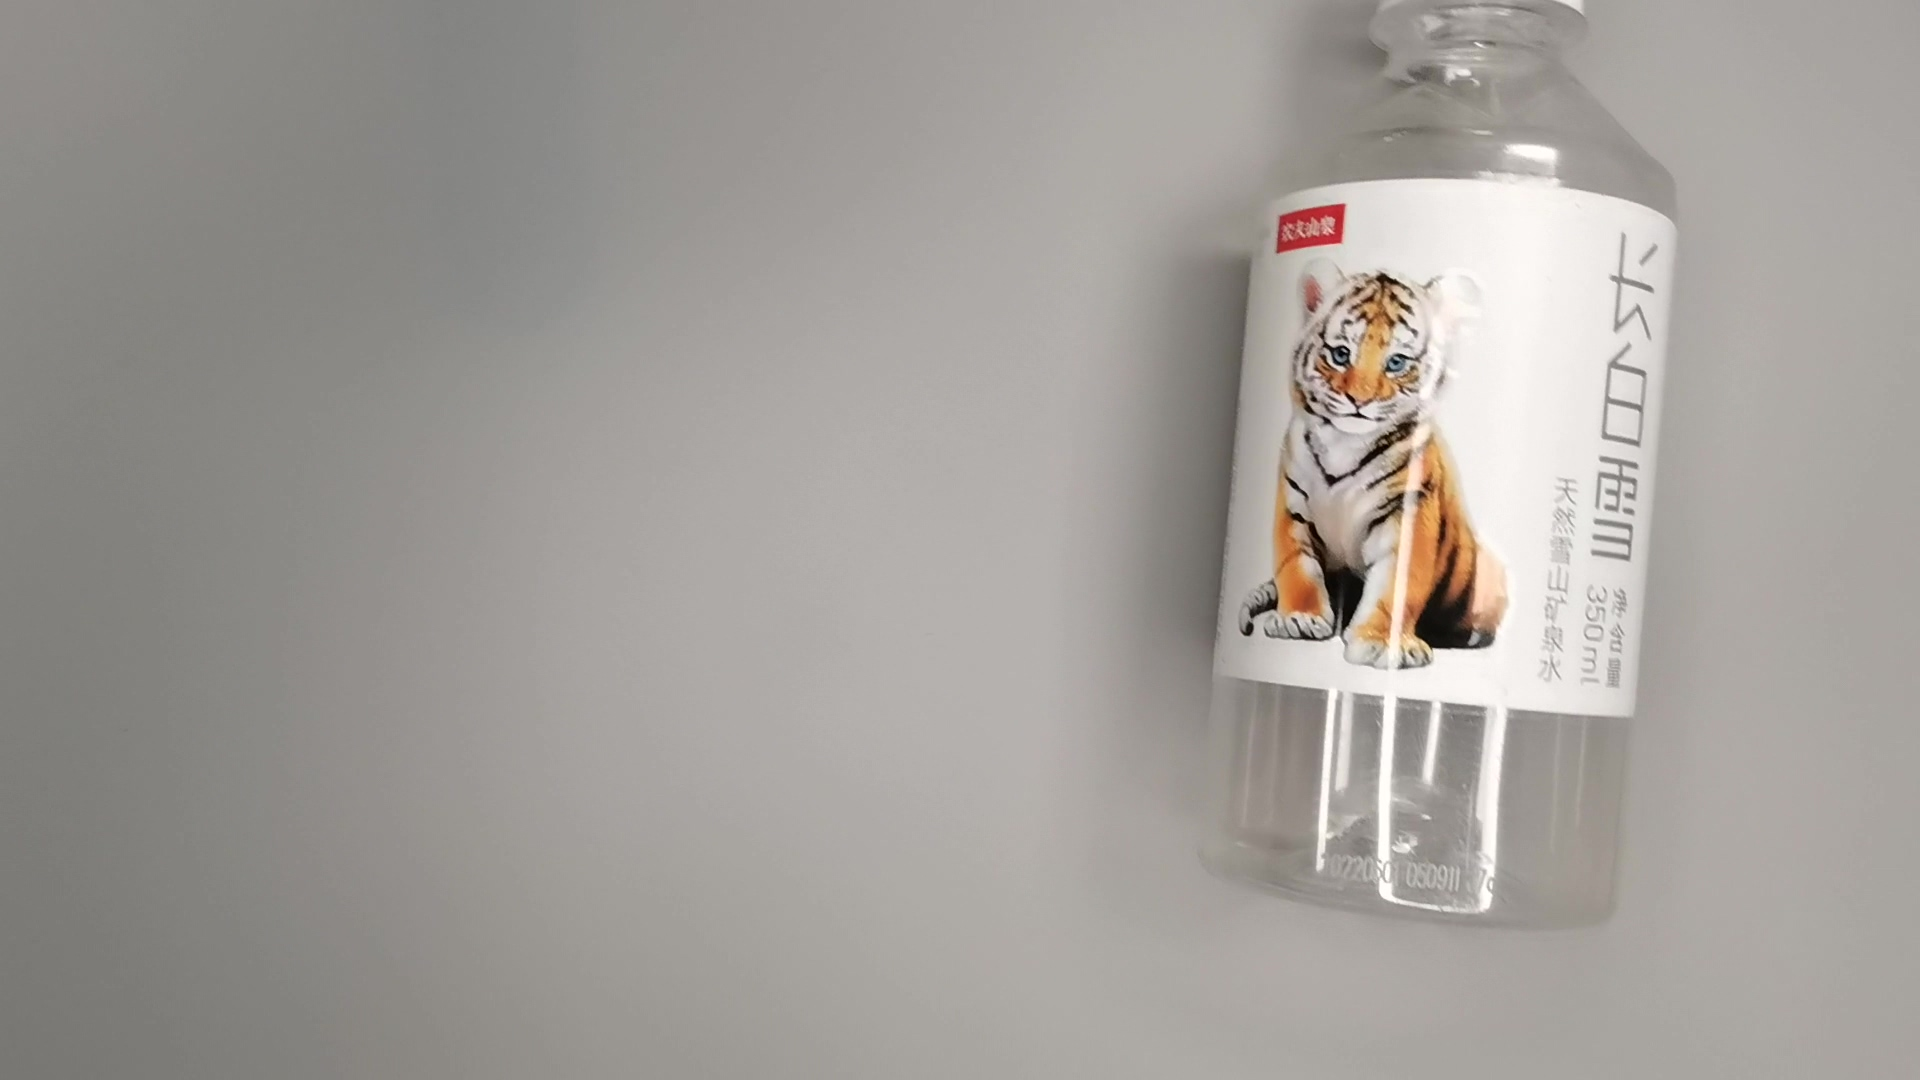bottle: (1185, 1, 1692, 948)
